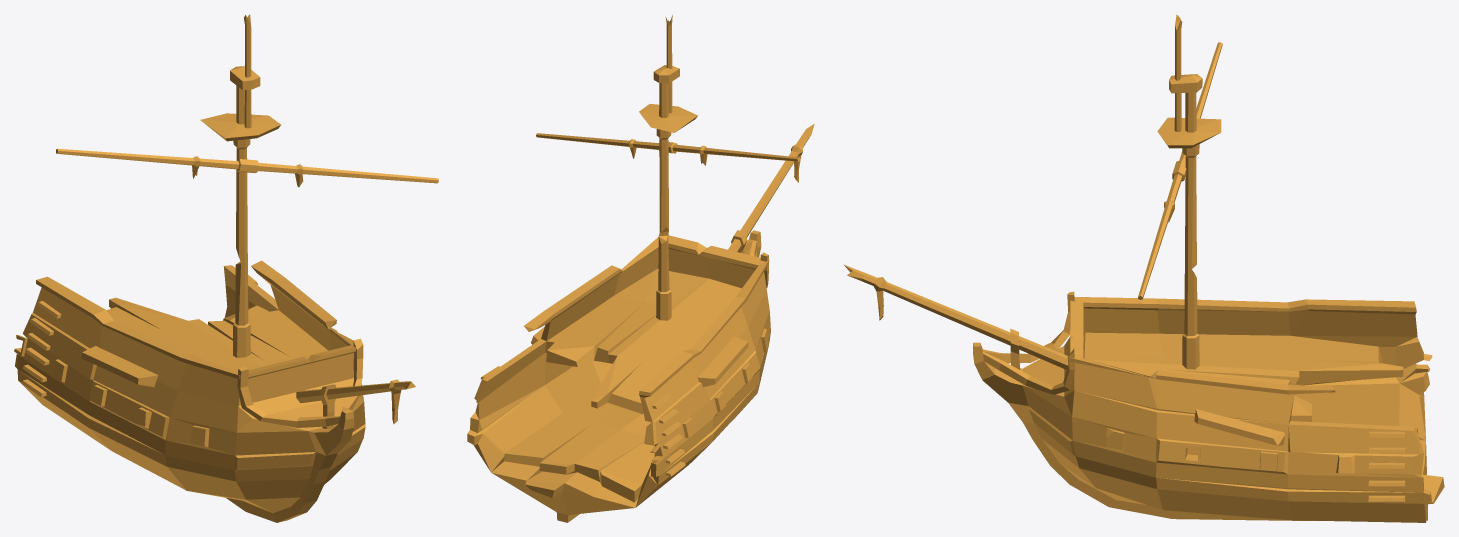
File: ship-pirate-vreck-front.fbx
3 views of the same model, side by side, from view 1: azimuth 30°, elevation 25°; view 2: azimuth 150°, elevation 25°; view 3: azimuth 270°, elevation 25° (orthographic). The views are drawn at different scales.
Parts seen in each view (by area): view 1: ship-pirate-vreck-front; view 2: ship-pirate-vreck-front; view 3: ship-pirate-vreck-front.
Boxes of the visible parts, bbox=[...] form: ship-pirate-vreck-front: bbox=[14, 14, 438, 522]; ship-pirate-vreck-front: bbox=[467, 15, 814, 522]; ship-pirate-vreck-front: bbox=[843, 14, 1444, 522].
Size of the model in its own units: 11.72 by 16.23 by 17.6.
